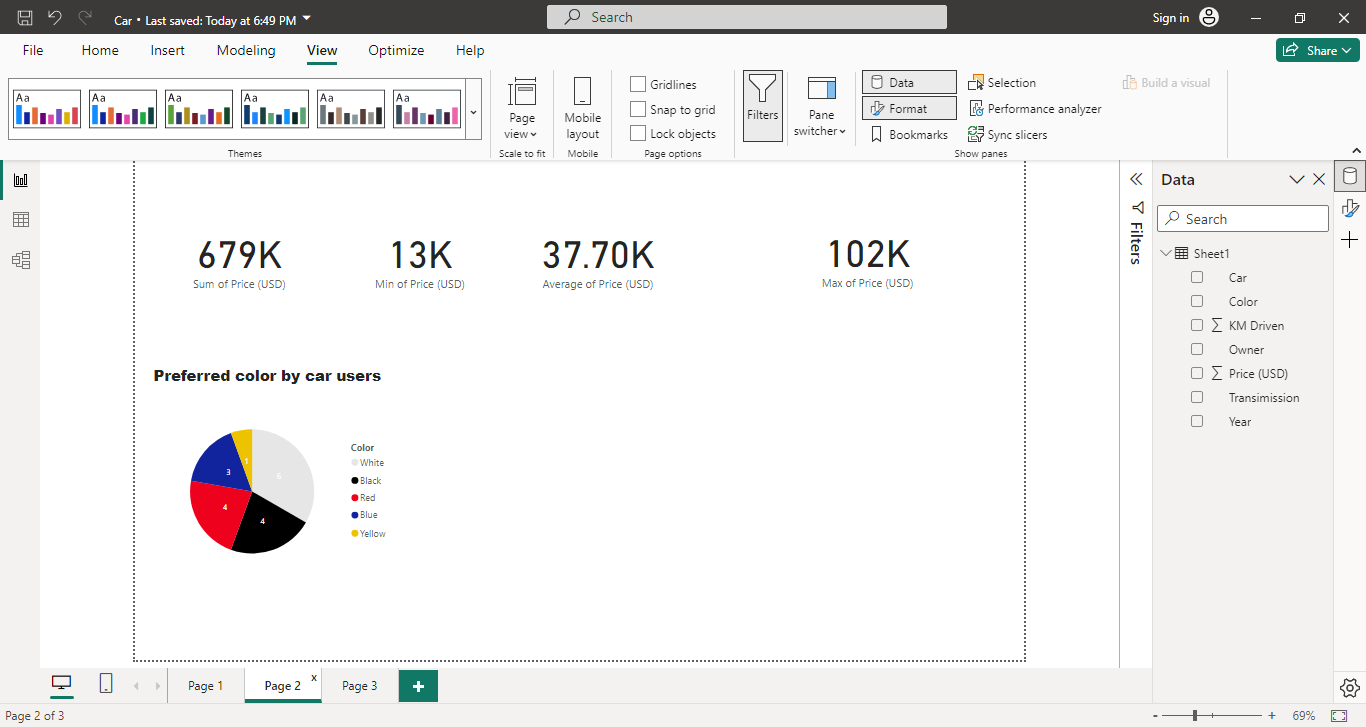

What the dashboard file says about the page in this screenshot:
{"tool":"powerbi","page":{"name":"Page 2","canvas":[1280,720],"ordinal":1},"visuals":[{"type":"card","fields":{"Values":["Sum(Sheet1.Price (USD))"]},"box":[10,0,280,280],"z":0},{"type":"card","fields":{"Values":["Min(Sheet1.Price (USD))"]},"box":[270.7,0,279.4,280.8],"z":1000},{"type":"card","fields":{"Values":["Avg(Sheet1.Price (USD))"]},"box":[527,0,279.4,280.8],"z":2000},{"type":"card","fields":{"Values":["Max(Sheet1.Price (USD))"]},"box":[879.8,38.9,349.9,200.2],"z":3000},{"type":"pieChart","title":"Preferred color by car users","fields":{"Category":["Sheet1.Color"],"Y":["CountNonNull(Sheet1.Car)"]},"box":[21.6,295.2,354.2,334.1],"z":4000}]}

Visuals, with their boxes on the page's 1280x720 design canvas (x1, y1, x2, y2). These are canvas units, not pixel positions in the 1366x727 screenshot, which may show the page scaled, cropped or inside an application window:
card - Sum(Sheet1.Price (USD)): {"left": 10, "top": 0, "right": 290, "bottom": 280}
card - Min(Sheet1.Price (USD)): {"left": 271, "top": 0, "right": 550, "bottom": 281}
card - Avg(Sheet1.Price (USD)): {"left": 527, "top": 0, "right": 806, "bottom": 281}
card - Max(Sheet1.Price (USD)): {"left": 880, "top": 39, "right": 1230, "bottom": 239}
"Preferred color by car users" pieChart: {"left": 22, "top": 295, "right": 376, "bottom": 629}
